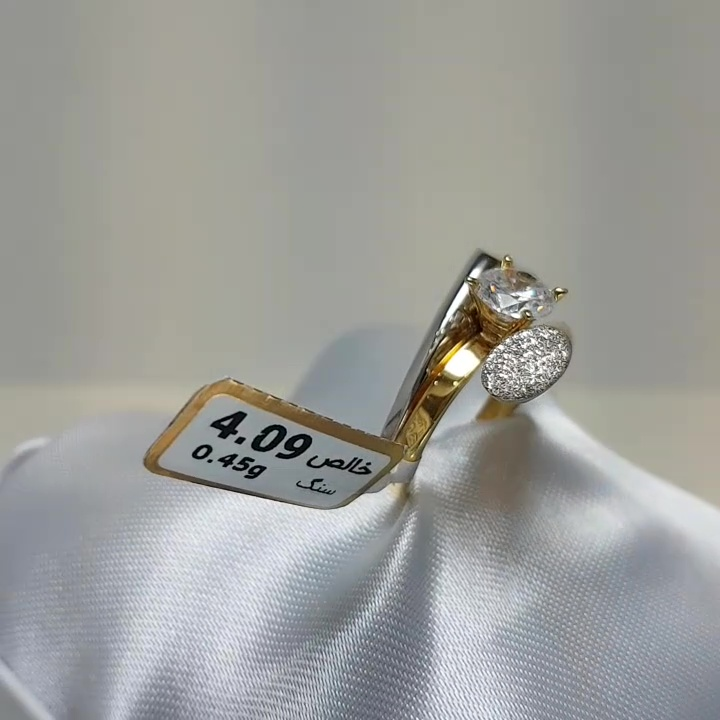Ring 7: (372, 238, 619, 518)
